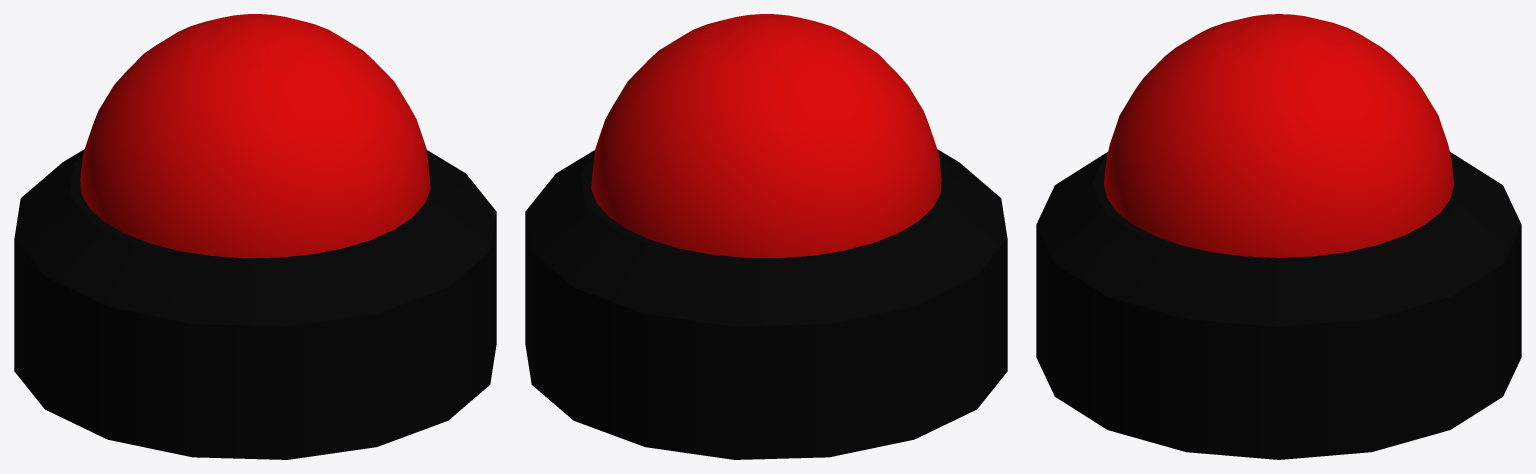
File: Holo Projector SUBSTANCE.fbx
3 renders of one model, left to right at view 1: azimuth 30°, elevation 25°; view 2: azimuth 150°, elevation 25°; view 3: azimuth 270°, elevation 25°, orthographic.
Visible parts, largest first — view 1: Cylinder; view 2: Cylinder; view 3: Cylinder.
Part boxes in pixels (<box>): Cylinder: <box>14,14,496,459</box>; Cylinder: <box>525,14,1007,459</box>; Cylinder: <box>1036,14,1521,459</box>.
Size of the model in its own units: 0.2759 by 0.2053 by 0.2759.
